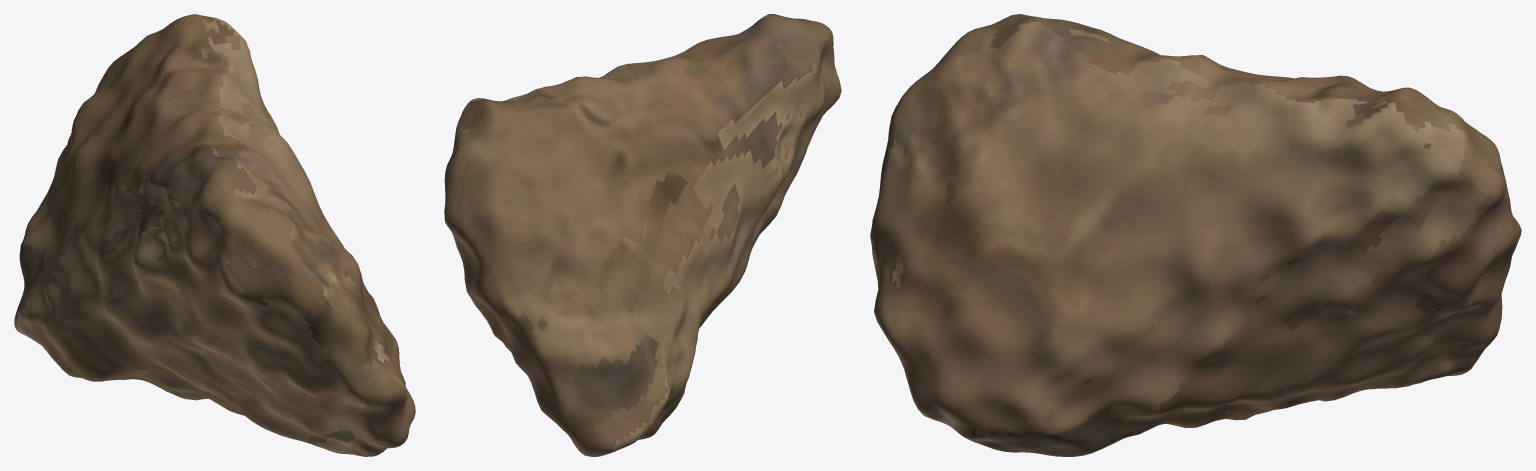
Rendered from Big-Rock-5-tex.fbx.
3 views of the same model, side by side, from view 1: azimuth 30°, elevation 25°; view 2: azimuth 150°, elevation 25°; view 3: azimuth 270°, elevation 25° (orthographic). The views are drawn at different scales.
Parts seen in each view (by area): view 1: rock; view 2: rock; view 3: rock.
Boxes of the visible parts, box(x1,y1,x2,y2) form: rock: box(14, 14, 415, 456); rock: box(444, 14, 841, 456); rock: box(870, 14, 1521, 456).
Bounding box in the file's own units: 333 × 469 × 751.
